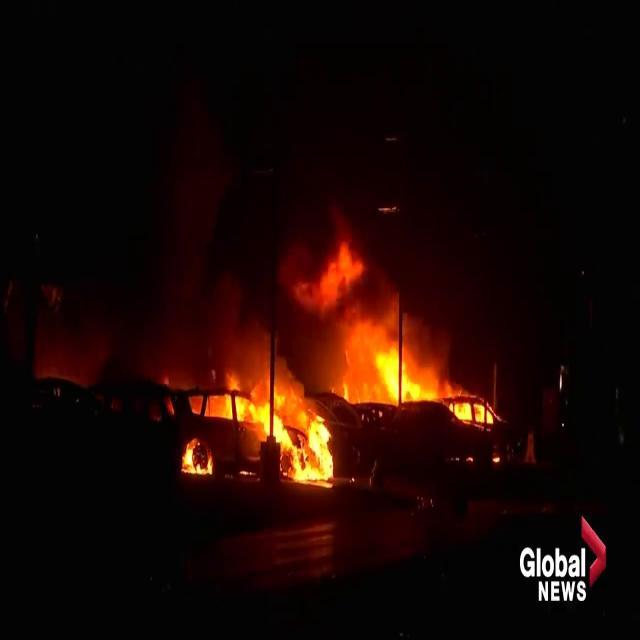Fire: (216, 355, 342, 488), (372, 343, 496, 425), (180, 437, 214, 483)
Smoke: (204, 190, 428, 394)
